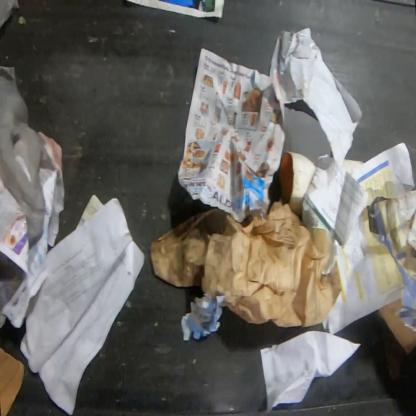cardboard: (278, 152, 317, 216), (377, 297, 415, 356), (0, 348, 26, 415)
soft_plastic: (0, 66, 45, 250)
